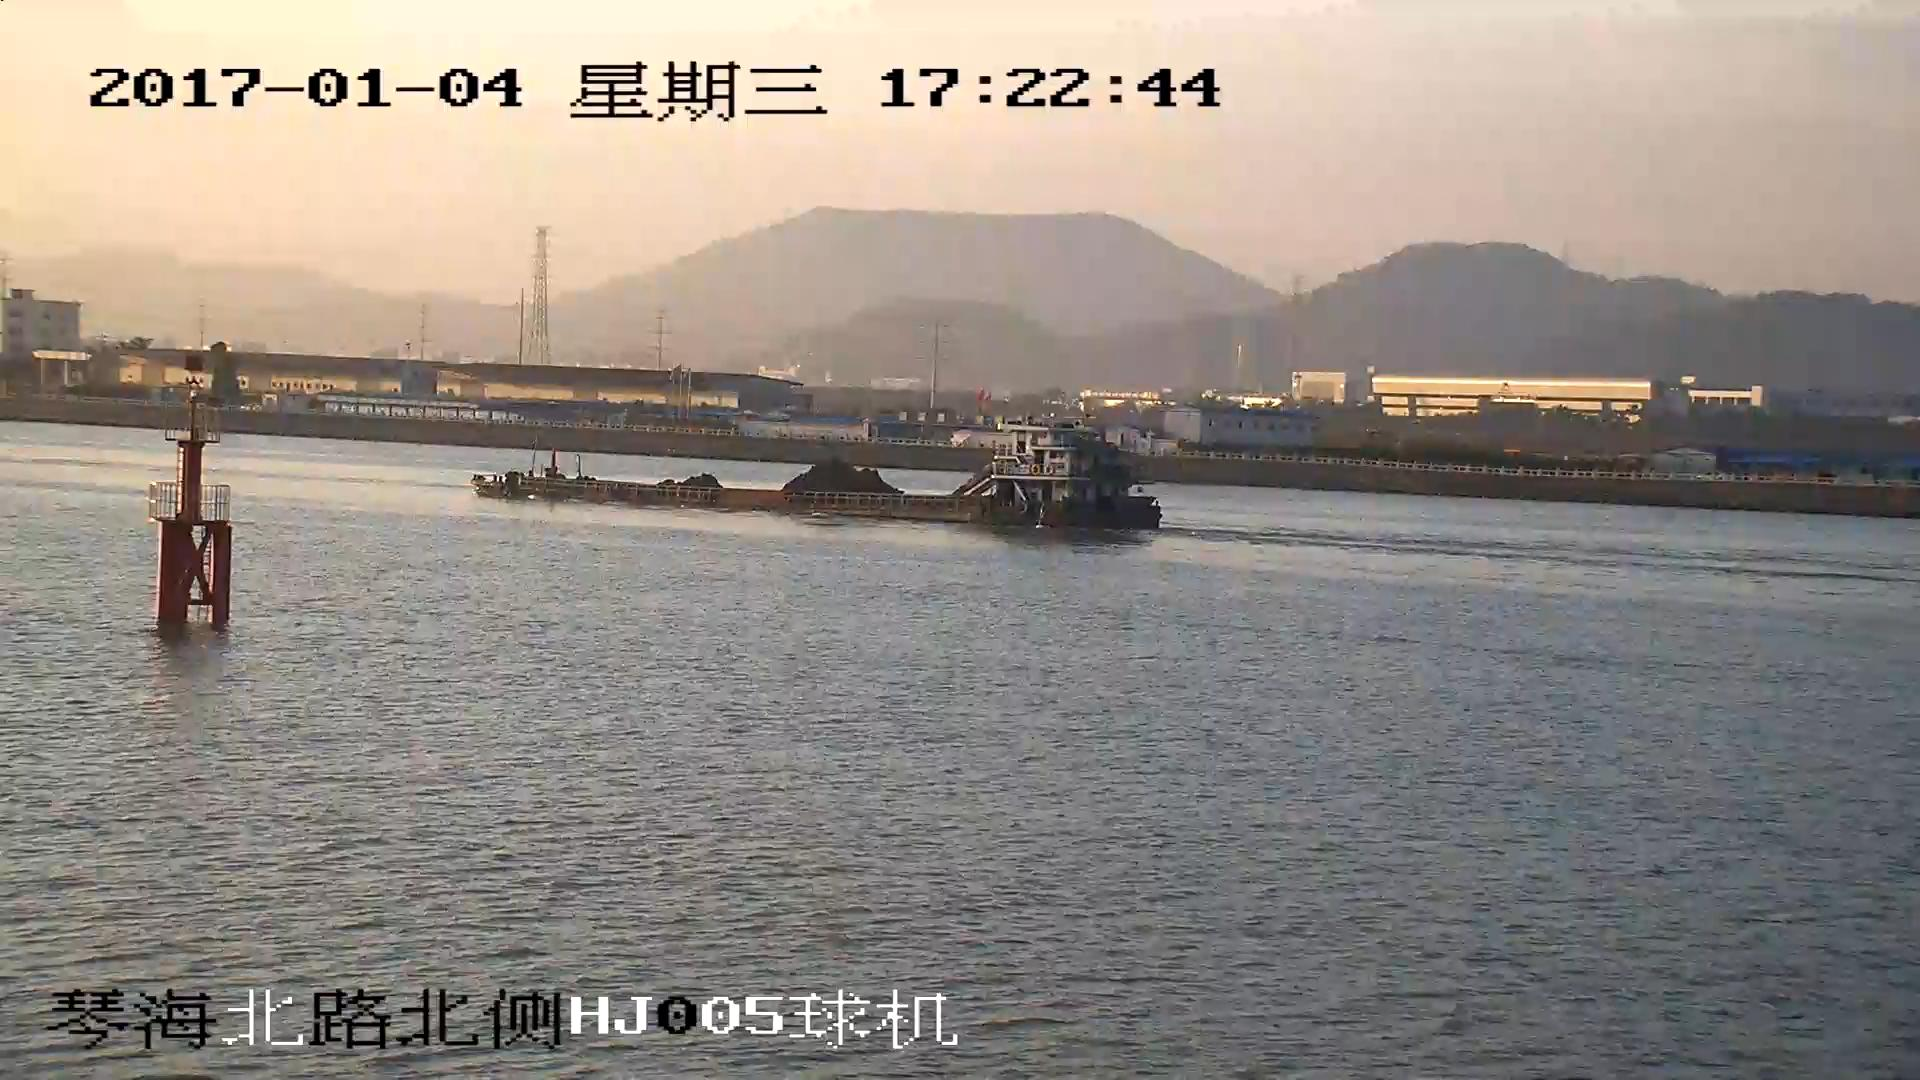ore carrier: (480, 428, 1162, 532)
